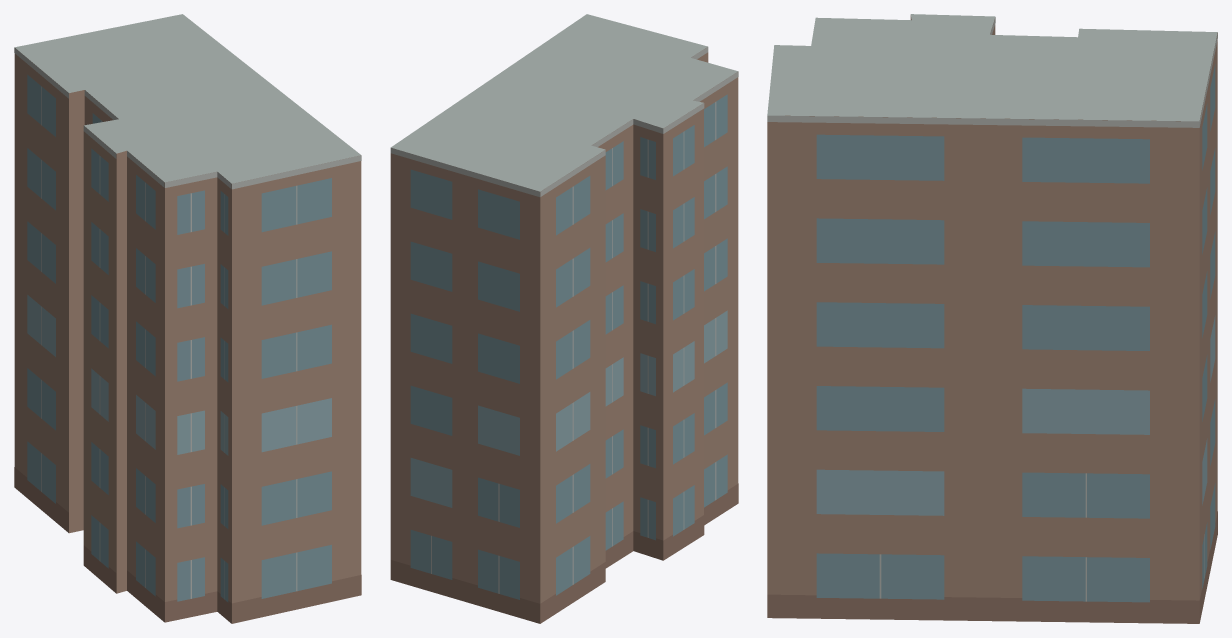
The model's file is survey-upis-32874570.glb.
The picture shows the model from 3 angles, left to right: view 1: azimuth 30°, elevation 25°; view 2: azimuth 150°, elevation 25°; view 3: azimuth 270°, elevation 25°; orthographic projection. The views are drawn at different scales.
Parts seen in each view (by area): view 1: survey-upis-32874570.tmp; view 2: survey-upis-32874570.tmp; view 3: survey-upis-32874570.tmp.
Boxes of the visible parts, x1,y1,x2,y2 form: survey-upis-32874570.tmp: (14,14,361,623); survey-upis-32874570.tmp: (390,14,738,623); survey-upis-32874570.tmp: (767,14,1217,623).
Bounding box in the file's own units: 8.6 × 18.74 × 15.23.
